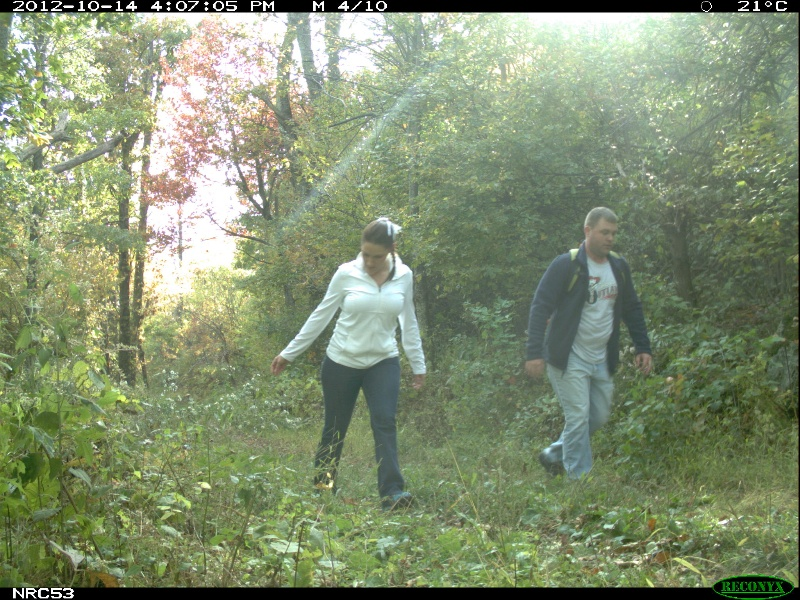human: (271, 218, 431, 519), (525, 200, 657, 502)
human face: (361, 229, 396, 280), (581, 215, 619, 256)
human legs: (314, 345, 418, 516), (545, 348, 616, 490)
